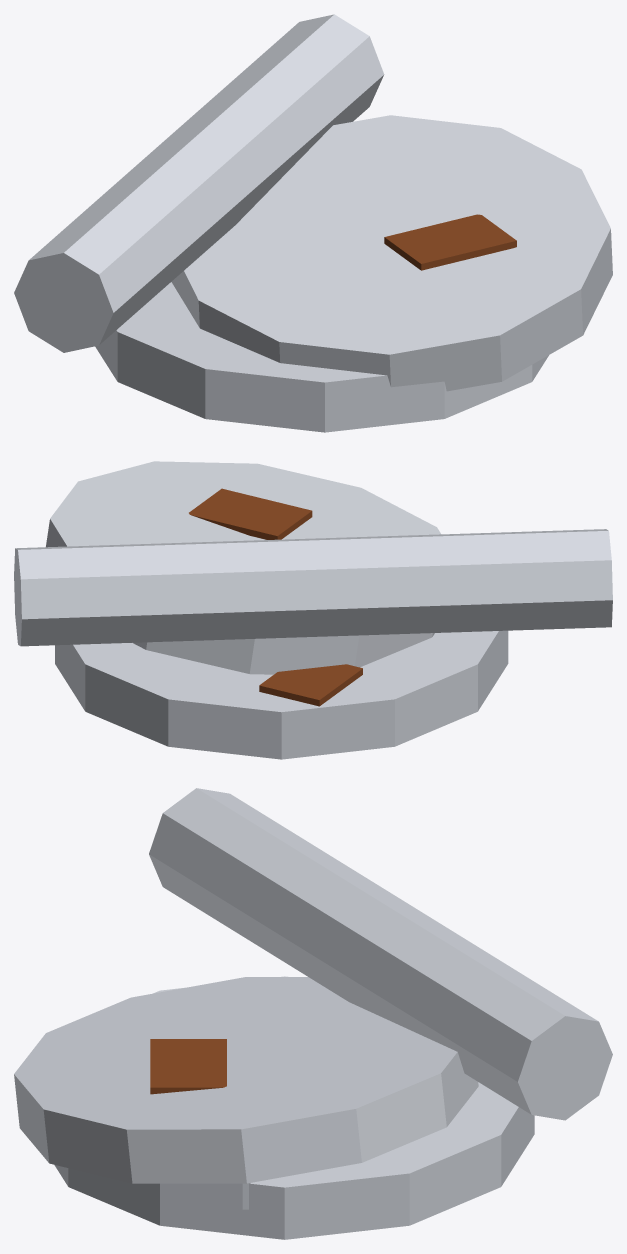
File: garage_old_parts.glb
3 views of the same model, one above another, from view 1: azimuth 30°, elevation 25°; view 2: azimuth 150°, elevation 25°; view 3: azimuth 270°, elevation 25° (orthographic). The views are drawn at different scales.
Visible parts, largest first — view 1: discs_paint_silver, pipe_paint_silver, rust_rust; view 2: discs_paint_silver, pipe_paint_silver, rust_rust; view 3: discs_paint_silver, pipe_paint_silver, rust_rust.
Part boxes in pixels (left/top/right/bottom): discs_paint_silver: left=95, top=115, right=612, bottom=432; pipe_paint_silver: left=14, top=14, right=384, bottom=352; rust_rust: left=384, top=214, right=516, bottom=270; discs_paint_silver: left=46, top=461, right=508, bottom=759; pipe_paint_silver: left=14, top=529, right=612, bottom=646; rust_rust: left=189, top=488, right=362, bottom=706; discs_paint_silver: left=14, top=976, right=534, bottom=1239; pipe_paint_silver: left=149, top=788, right=612, bottom=1120; rust_rust: left=150, top=1039, right=226, bottom=1094.
Bounding box in the file's own units: 0.3581 × 0.11 × 0.3116.
